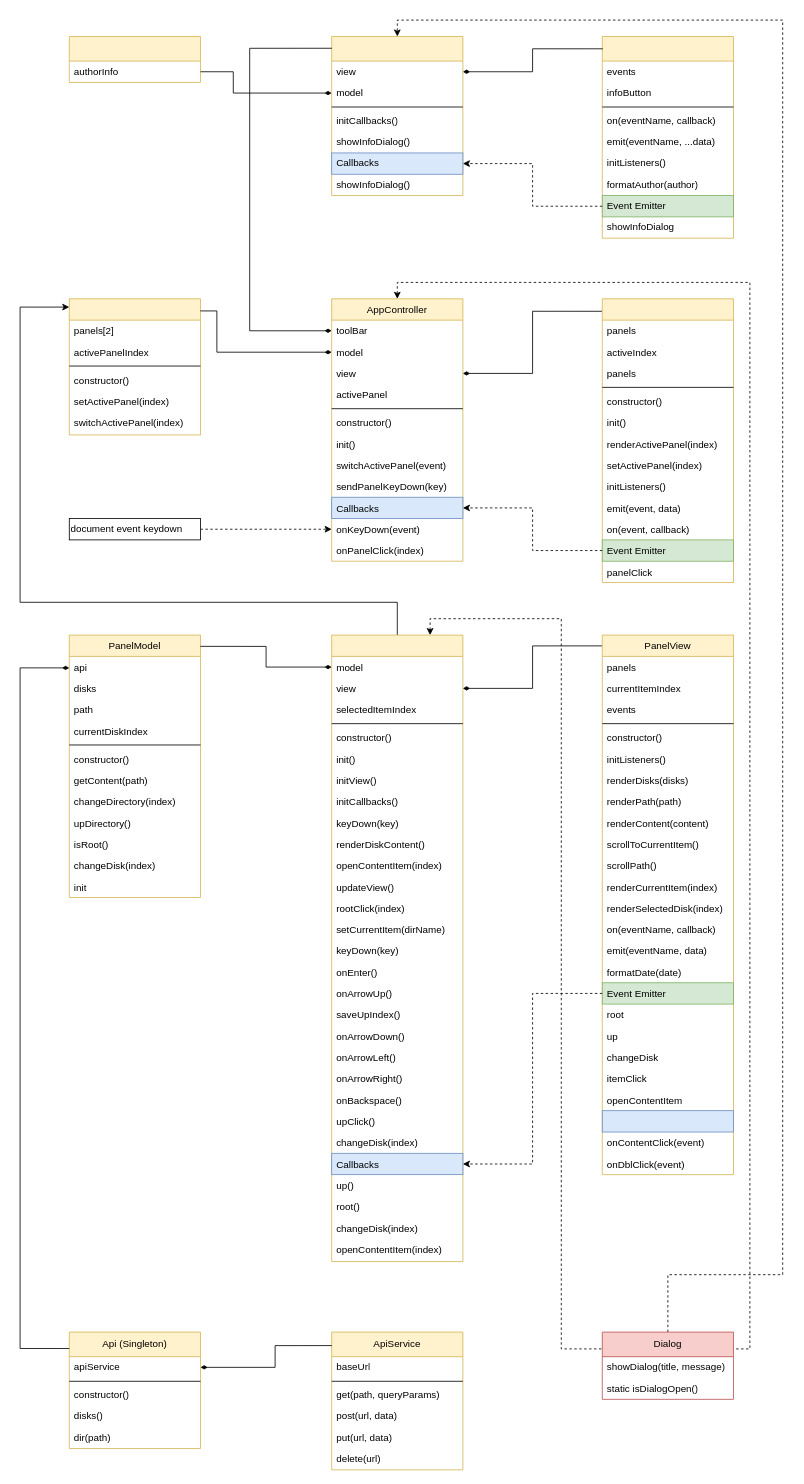
Image size: 804x1484. Some labels were removed from this diagram. Each missing label, with the box of its shape:
AppModel: (68, 298, 200, 435)
AppView: (601, 298, 733, 583)
Callbacks (view listeners): (601, 1110, 733, 1132)
PanelController: (331, 634, 463, 1262)
ToolBarController: (331, 36, 463, 196)
ToolBarModel: (68, 36, 200, 82)
ToolBarView: (601, 36, 733, 238)
